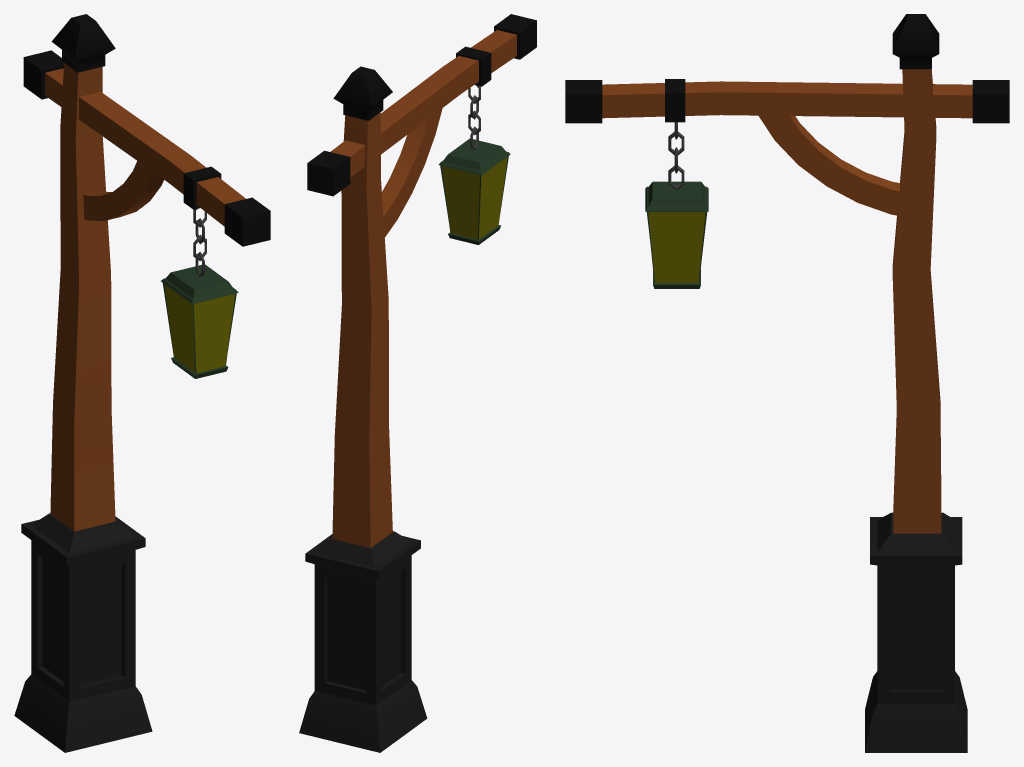
File: Lampadaire.FBX
The picture shows the model from 3 angles, left to right: view 1: azimuth 30°, elevation 25°; view 2: azimuth 150°, elevation 25°; view 3: azimuth 270°, elevation 25°; orthographic projection. The views are drawn at different scales.
Parts seen in each view (by area): view 1: Box009, Box011, Box010, Box021, Box005; view 2: Box009, Box011, Box010, Box021, Box005; view 3: Box009, Box011, Box010, Box021, Box005.
Boxes of the visible parts, box(x1,y1,x2,y2) form: Box009: box(45, 63, 245, 531); Box011: box(14, 513, 152, 752); Box010: box(23, 14, 270, 246); Box021: box(164, 284, 234, 373); Box005: box(161, 264, 238, 378); Box009: box(330, 30, 516, 547); Box011: box(299, 531, 427, 752); Box010: box(307, 14, 536, 196); Box021: box(442, 157, 507, 239); Box005: box(438, 138, 510, 244); Box009: box(602, 69, 972, 533); Box011: box(865, 512, 967, 752); Box010: box(565, 14, 1009, 123); Box021: box(648, 212, 705, 283); Box005: box(645, 181, 708, 288).
Size of the model in its own units: 41.54 by 319 by 180.
